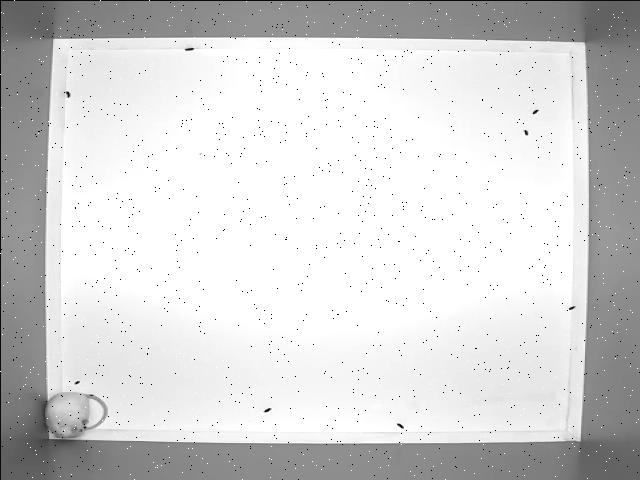Tikus: (43, 389, 109, 441)
